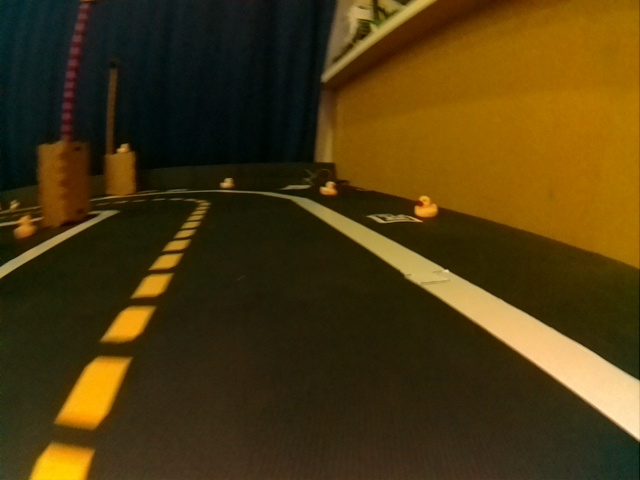Duckie: (13, 217, 36, 240), (415, 196, 437, 217), (321, 181, 337, 195), (221, 178, 234, 189), (116, 144, 128, 153)
QR code: (369, 213, 419, 223)
